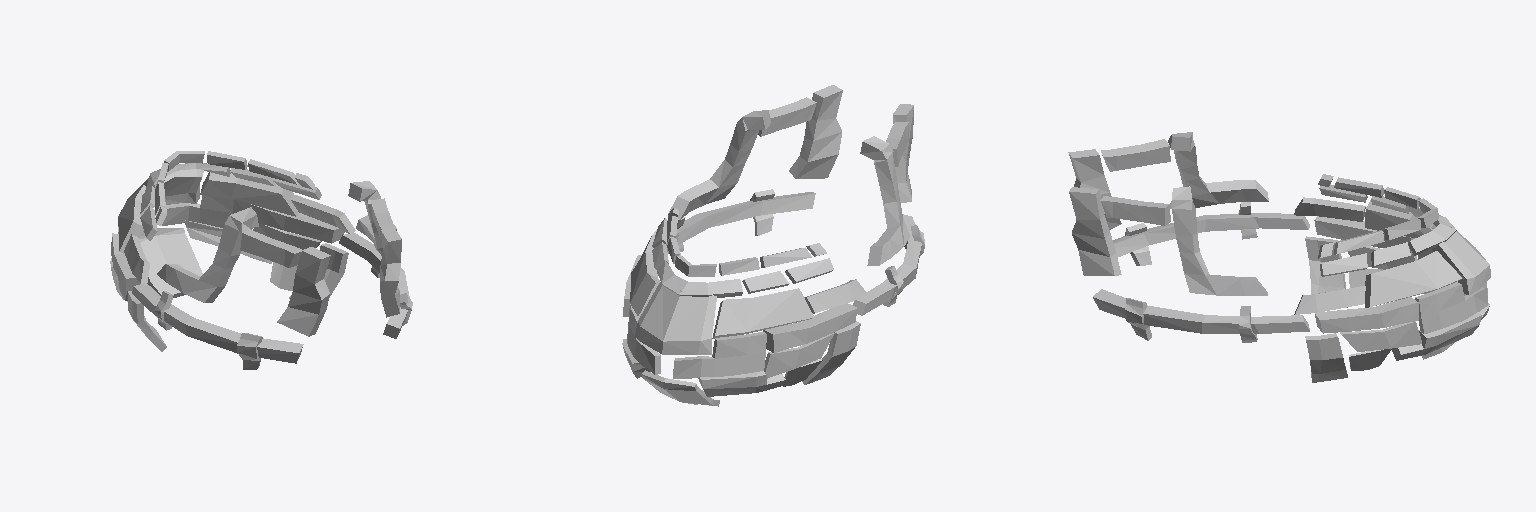
The model's file is korpus_befor_zbrush.OBJ.
3 renders of one model, left to right at view 1: azimuth 30°, elevation 25°; view 2: azimuth 150°, elevation 25°; view 3: azimuth 270°, elevation 25°, orthographic.
Visible parts, largest first — view 1: Group10516, Group33558, Group49859, Group59729, Group33536, Group59668, Group33506, Group43651, Group49911, Group33644, Group10723, Group16904 (+16 smaller); view 2: Group17197, Group33651, Group33506, Group49668, Group16388, Group59859, Group59911, Group33077, Group33536, Group33558, Group10516, Group723 (+14 smaller); view 3: Group10516, Group33651, Group49859, Group33558, Group59911, Group49668, Group49911, Group16388, Group20516, Group17197, Group33506, Group723 (+22 smaller).
Part boxes in pixels (left/top/right/bottom): Group10516: left=157, top=181, right=376, bottom=302; Group33558: left=134, top=233, right=409, bottom=360; Group49859: left=277, top=251, right=399, bottom=336; Group59729: left=139, top=228, right=202, bottom=294; Group33536: left=302, top=227, right=401, bottom=336; Group59668: left=143, top=195, right=250, bottom=231; Group33506: left=167, top=183, right=382, bottom=302; Group43651: left=200, top=180, right=295, bottom=216; Group49911: left=132, top=287, right=407, bottom=363; Group33644: left=119, top=172, right=298, bottom=253; Group10723: left=251, top=205, right=333, bottom=242; Group16904: left=155, top=151, right=314, bottom=225; Group17197: left=635, top=282, right=716, bottom=354; Group33651: left=630, top=252, right=814, bottom=335; Group33506: left=668, top=111, right=899, bottom=265; Group49668: left=627, top=305, right=766, bottom=378; Group16388: left=652, top=218, right=833, bottom=294; Group59859: left=796, top=90, right=842, bottom=178; Group59911: left=666, top=193, right=907, bottom=253; Group33077: left=667, top=208, right=826, bottom=276; Group33536: left=789, top=85, right=913, bottom=202; Group33558: left=652, top=192, right=921, bottom=315; Group10516: left=743, top=110, right=909, bottom=264; Group723: left=773, top=308, right=857, bottom=352; Group10516: left=1168, top=132, right=1267, bottom=295; Group33651: left=1370, top=251, right=1461, bottom=306; Group49859: left=1069, top=192, right=1114, bottom=275; Group33558: left=1093, top=213, right=1309, bottom=329; Group59911: left=1114, top=217, right=1307, bottom=256; Group49668: left=1419, top=284, right=1487, bottom=333; Group49911: left=1093, top=297, right=1309, bottom=333; Group16388: left=1321, top=208, right=1455, bottom=274; Group20516: left=1172, top=146, right=1268, bottom=207; Group17197: left=1439, top=228, right=1490, bottom=294; Group33506: left=1168, top=132, right=1268, bottom=294; Group723: left=1320, top=302, right=1418, bottom=333.
Bounding box in the file's own units: 110 × 85.14 × 174.